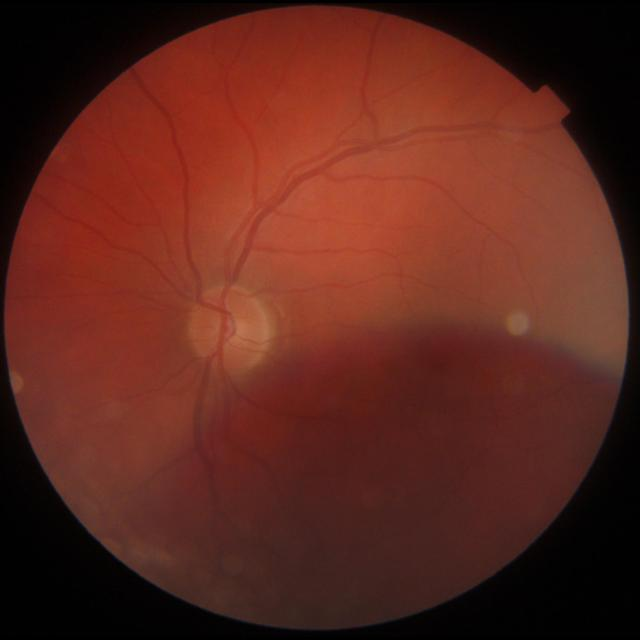OC: (221, 319, 244, 342)
OD: (190, 288, 265, 369)
